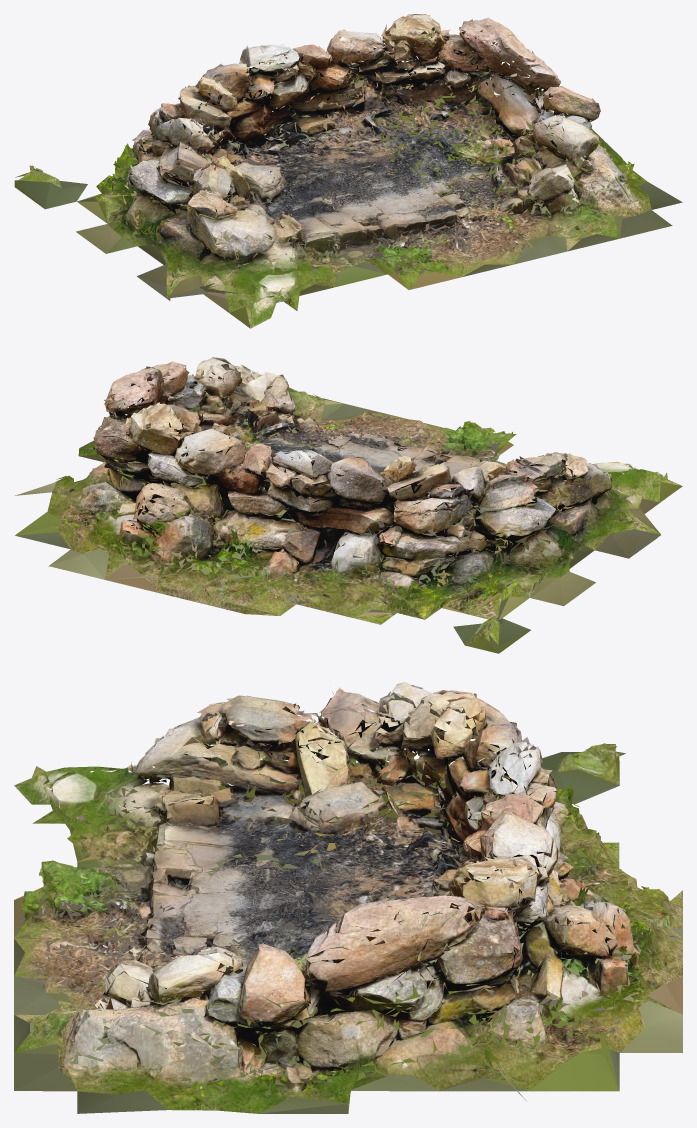
File: firepit.glb
The picture shows the model from 3 angles, top to bottom: view 1: azimuth 30°, elevation 25°; view 2: azimuth 150°, elevation 25°; view 3: azimuth 270°, elevation 25°; orthographic projection. The views are drawn at different scales.
Size of the model in its own units: 1.5 by 0.3521 by 1.21.
Materials: 1 (1 with a texture image).
